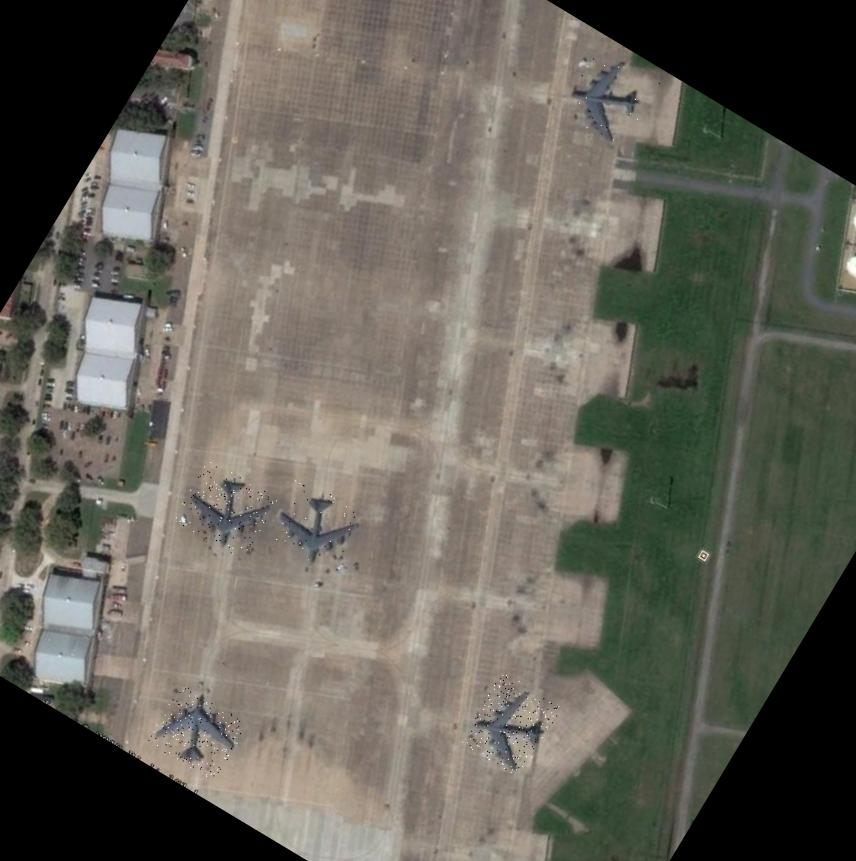A8: (552, 42, 662, 151), (172, 456, 278, 561), (459, 670, 562, 778), (262, 474, 366, 574), (146, 682, 248, 782)
